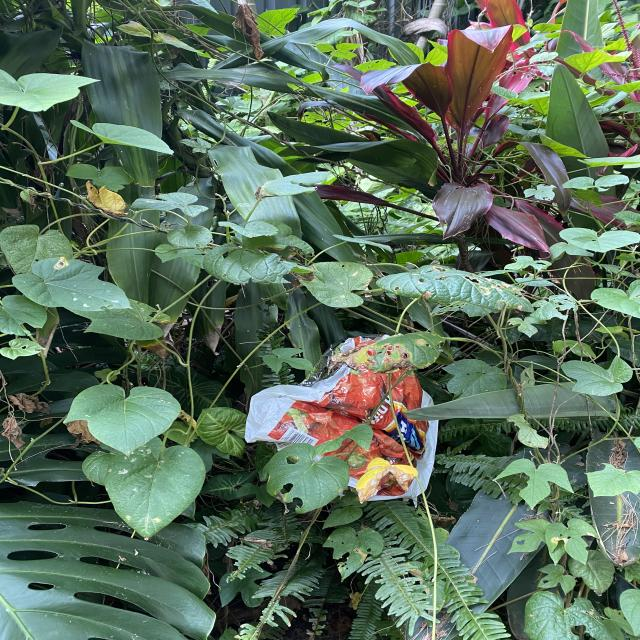bag: (244, 335, 439, 502)
